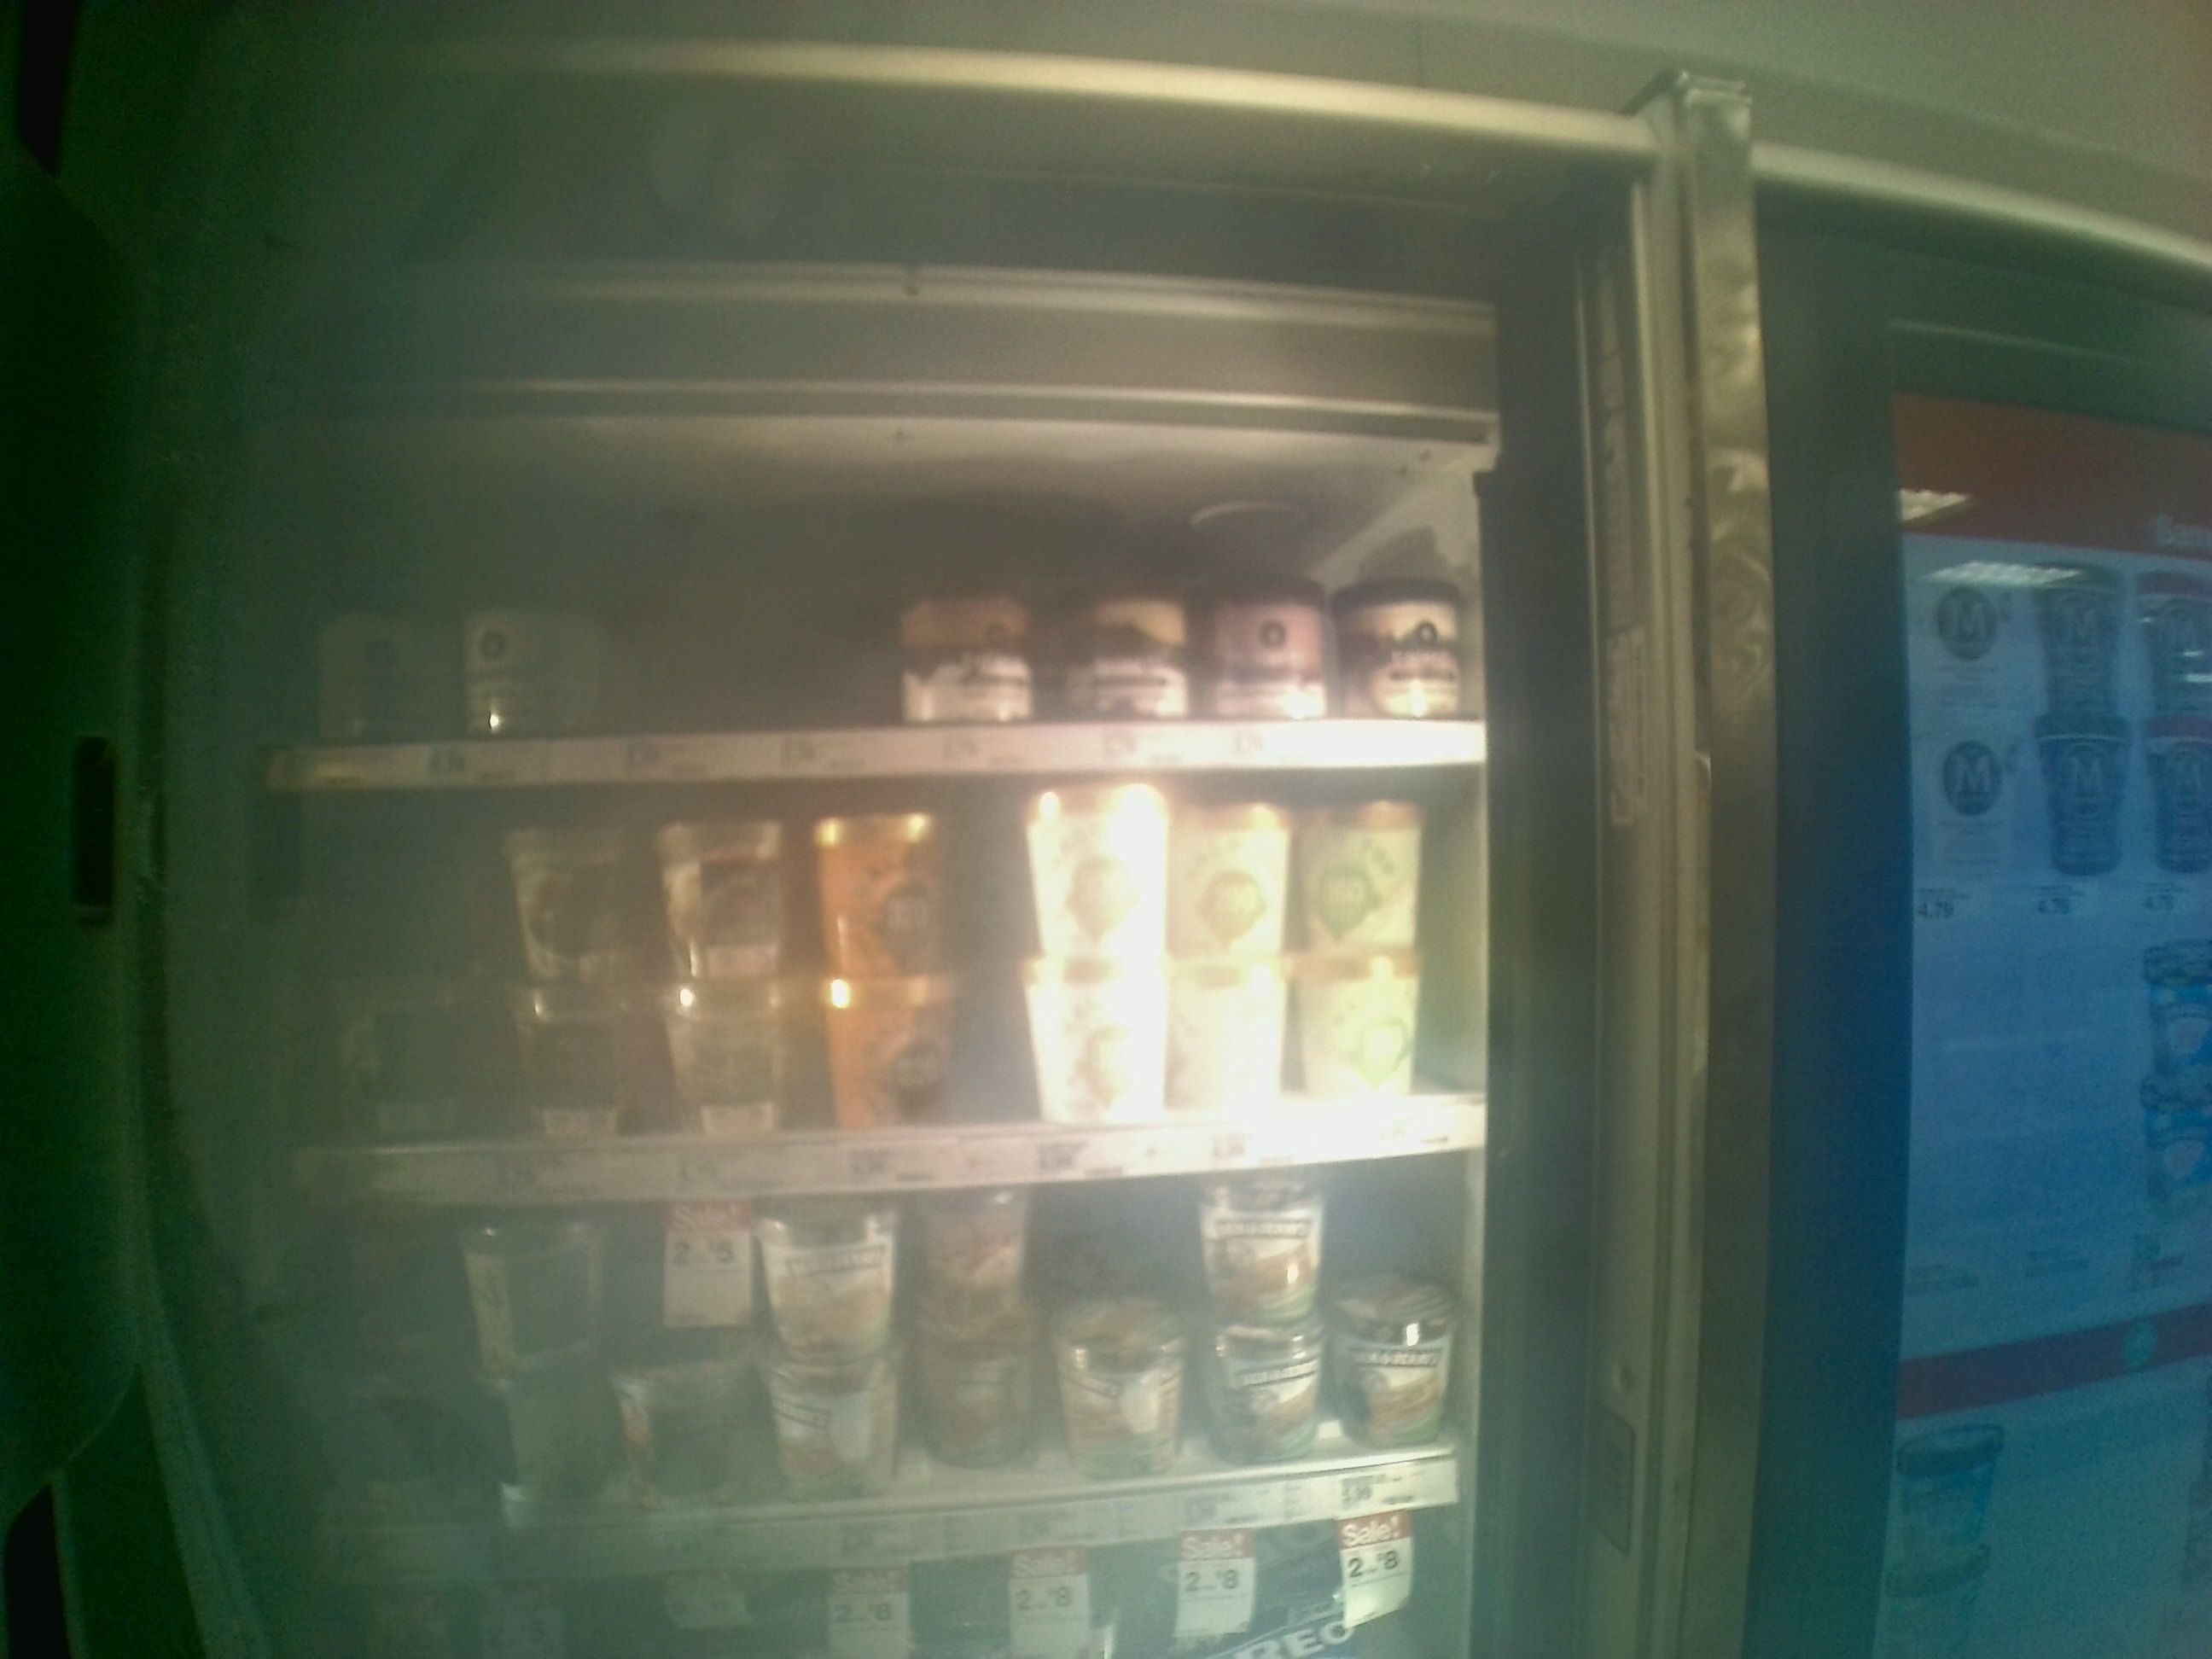shelf: (286, 788, 1489, 1213), (286, 422, 1479, 788)
